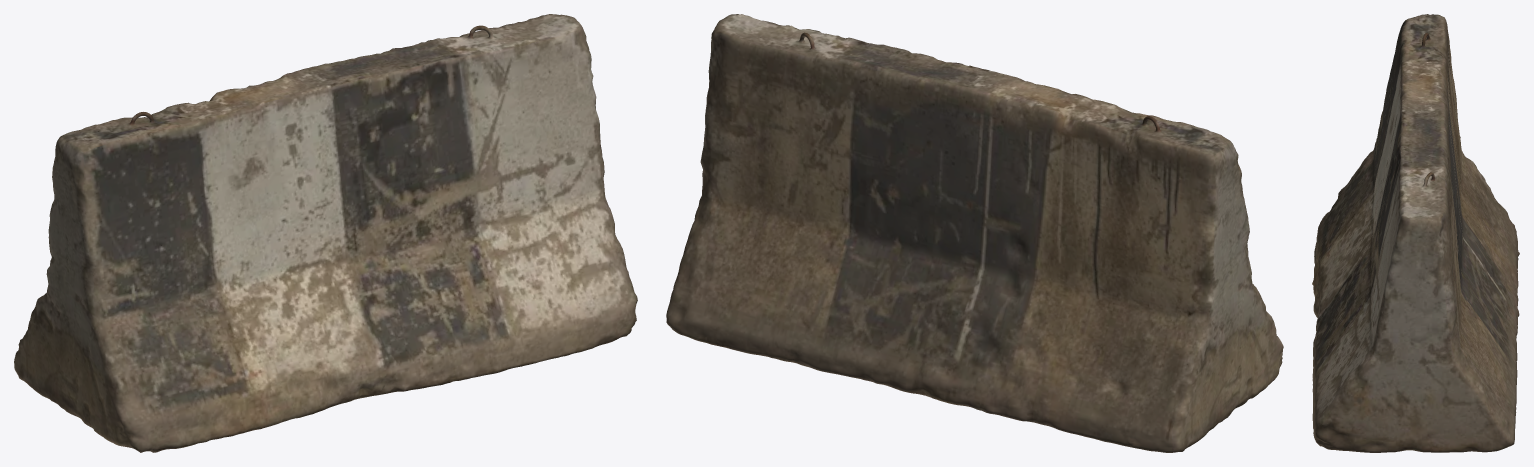
Rendered from road_barrier.glb.
3 renders of one model, left to right at view 1: azimuth 30°, elevation 25°; view 2: azimuth 150°, elevation 25°; view 3: azimuth 270°, elevation 25°, orthographic. The views are drawn at different scales.
Visible parts, largest first — view 1: concrete_road_barrier; view 2: concrete_road_barrier; view 3: concrete_road_barrier.
Part boxes in pixels (x1,y1,x2,y2): concrete_road_barrier: [14, 14, 637, 452]; concrete_road_barrier: [666, 14, 1283, 452]; concrete_road_barrier: [1312, 14, 1519, 452].
Bounding box in the file's own units: 1.55 × 0.8311 × 0.6388.
Materials: 1 (1 with a texture image).
